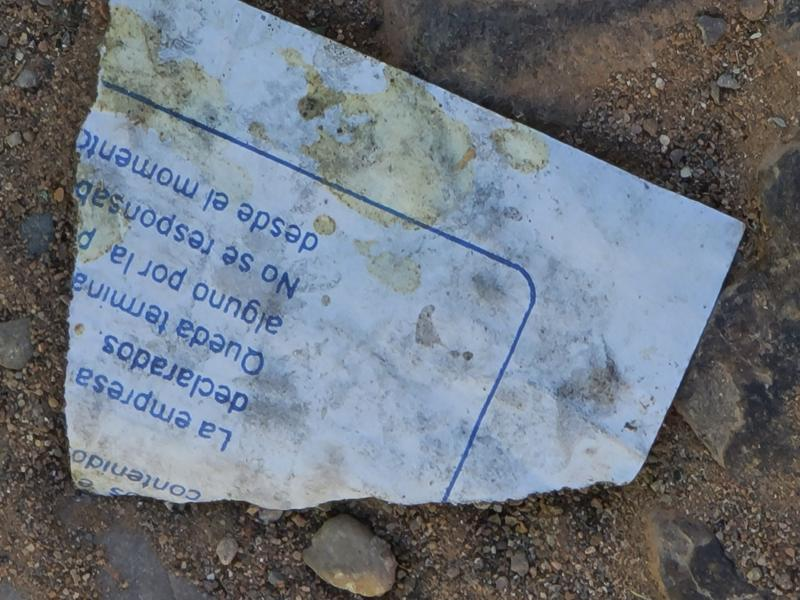papel: (60, 0, 744, 513)
